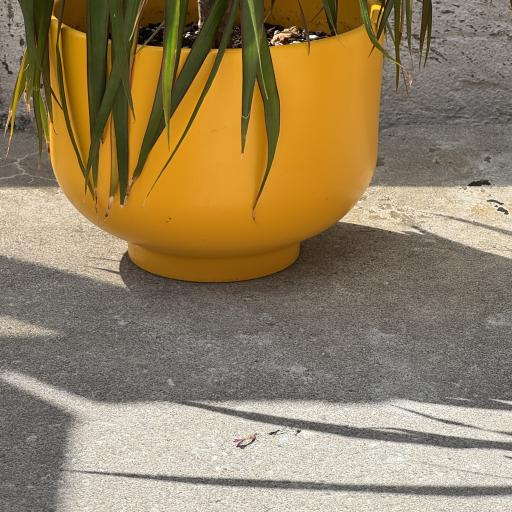Plant Pot: (45, 0, 382, 283)
